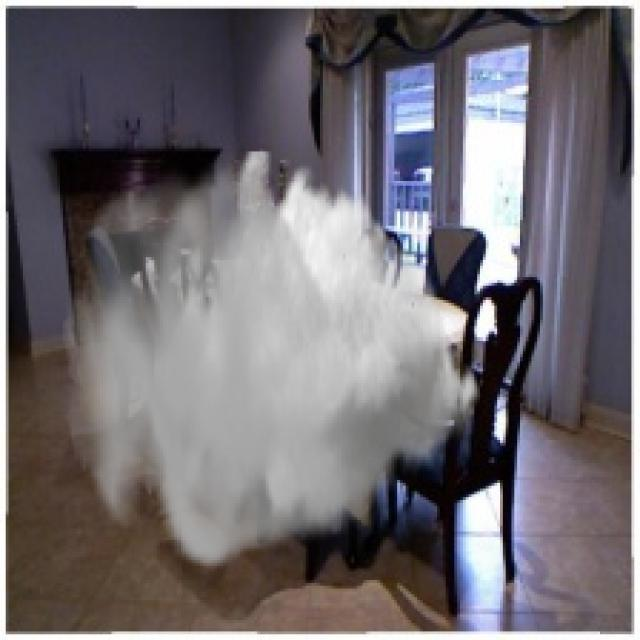Smoke: (63, 152, 483, 574)
